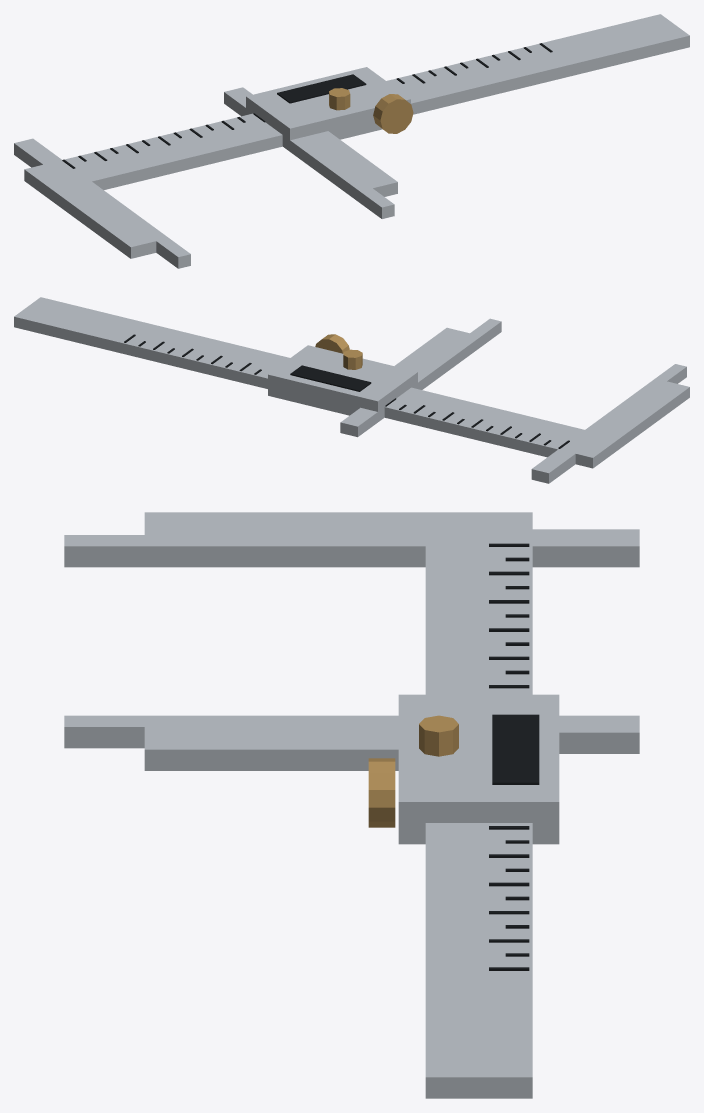
The model's file is Prop_Survey_Calipers_Static.glb.
3 views of the same model, one above another, from view 1: azimuth 30°, elevation 25°; view 2: azimuth 150°, elevation 25°; view 3: azimuth 270°, elevation 25° (orthographic). The views are drawn at different scales.
Visible parts, largest first — view 1: Prop_Survey_Calipers_Static; view 2: Prop_Survey_Calipers_Static; view 3: Prop_Survey_Calipers_Static.
Boxes of the visible parts, bbox=[...] form: Prop_Survey_Calipers_Static: bbox=[14, 14, 689, 268]; Prop_Survey_Calipers_Static: bbox=[14, 297, 689, 483]; Prop_Survey_Calipers_Static: bbox=[64, 512, 639, 1098].
Size of what is drawn, in the model's own units: 0.2 by 0.011 by 0.086.
